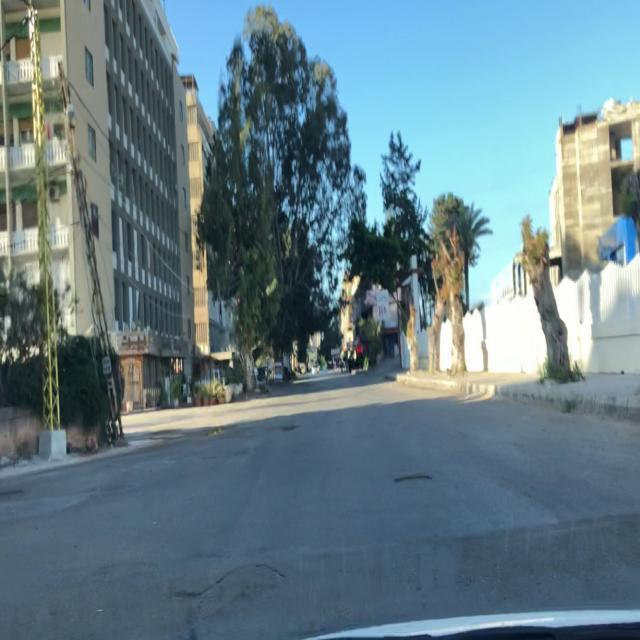pothole: (389, 470, 435, 492), (281, 423, 300, 432)
